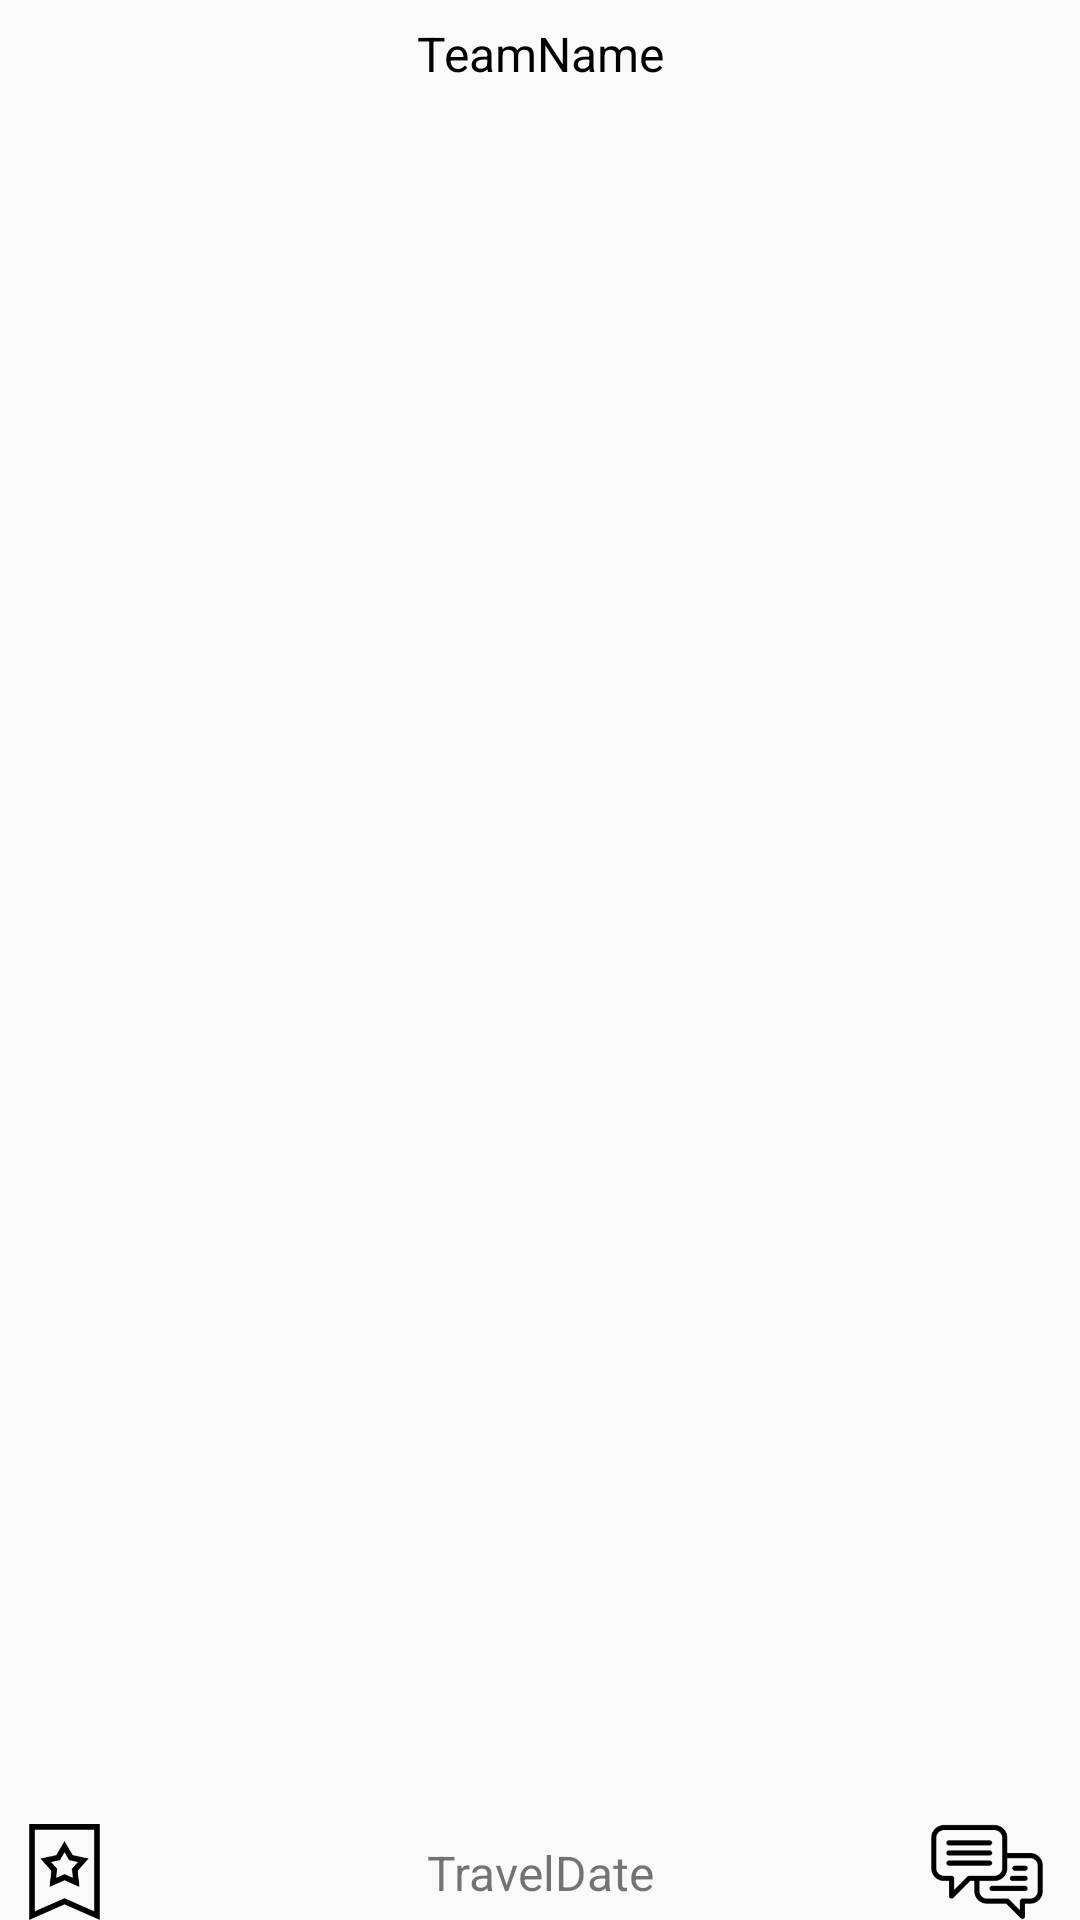

Locate icon controls on the screen. Image size 1080 x 1920, boxes as (x1, y1, x2, y2).
chat: (931, 1825, 1043, 1919)
favorite: (29, 1824, 100, 1920)
